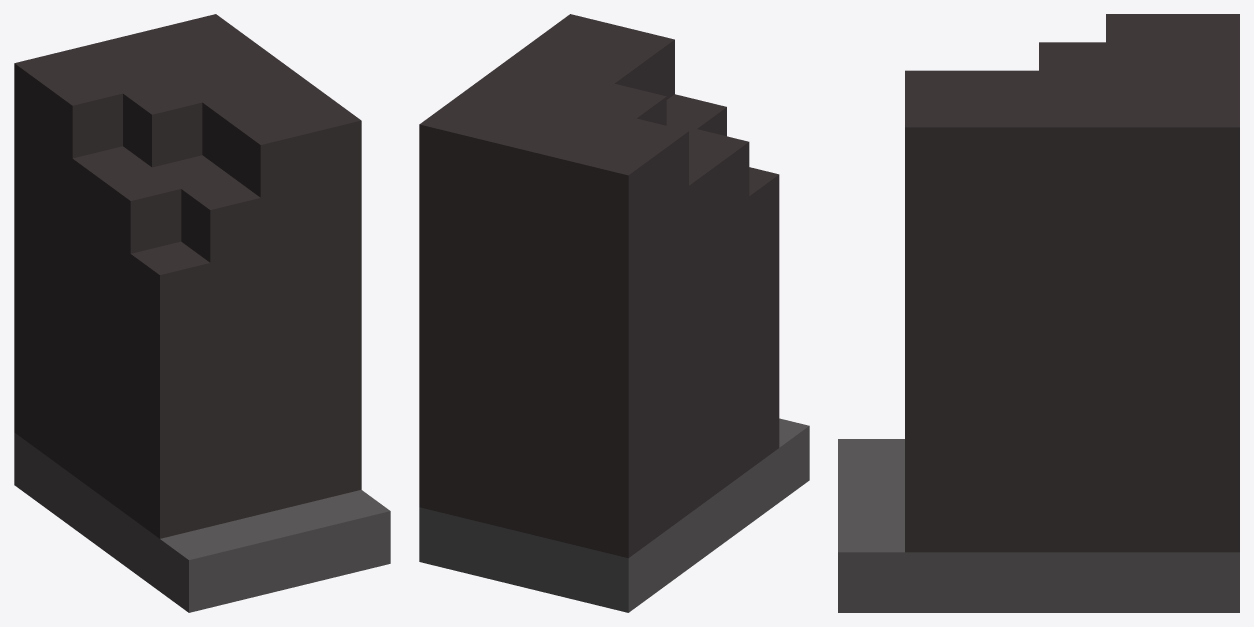
The model's file is gorilla__leg_l.glb.
3 renders of one model, left to right at view 1: azimuth 30°, elevation 25°; view 2: azimuth 150°, elevation 25°; view 3: azimuth 270°, elevation 25°, orthographic. The views are drawn at different scales.
Visible parts, largest first — view 1: gorilla__leg_l; view 2: gorilla__leg_l; view 3: gorilla__leg_l.
Part boxes in pixels (x1,y1,x2,y2): gorilla__leg_l: (14,14,390,612); gorilla__leg_l: (419,14,809,612); gorilla__leg_l: (838,14,1239,612).
Bounding box in the file's own units: 0.4 × 0.8 × 0.6.
Materials: 1 (1 with a texture image).
